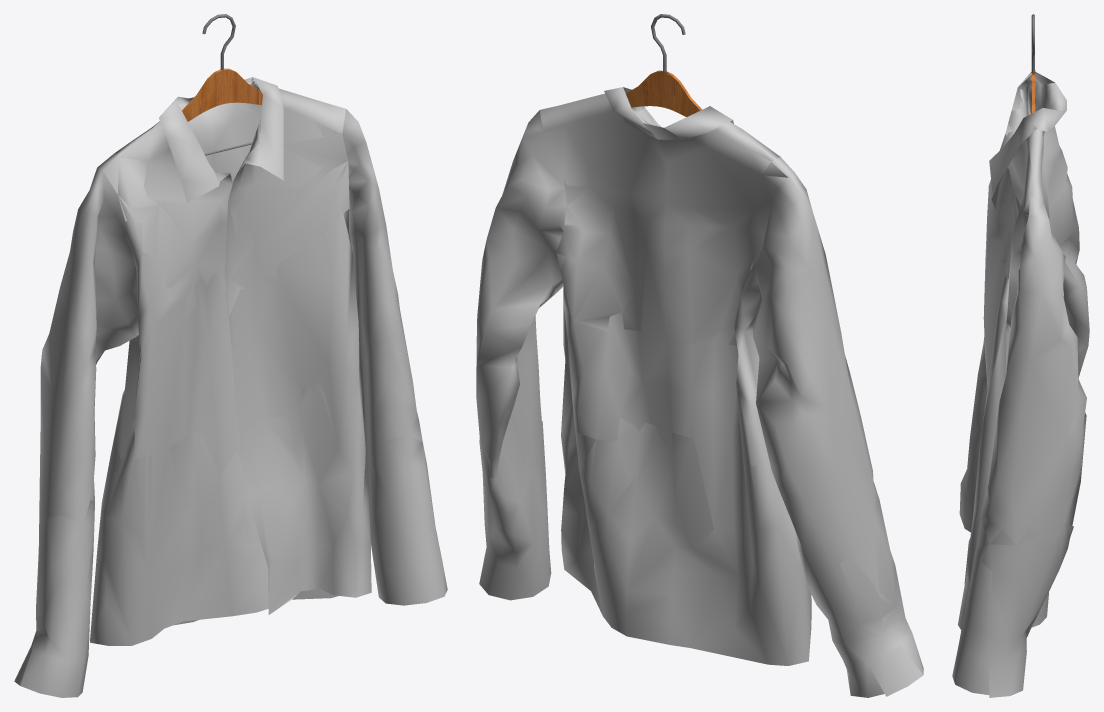
Rendered from dressshirt.FBX.
3 renders of one model, left to right at view 1: azimuth 30°, elevation 25°; view 2: azimuth 150°, elevation 25°; view 3: azimuth 270°, elevation 25°, orthographic. The views are drawn at different scales.
Visible parts, largest first — view 1: dressshirt_LOD0, _Hanger-1_LOD0; view 2: dressshirt_LOD0, _Hanger-1_LOD0; view 3: dressshirt_LOD0, _Hanger-1_LOD0.
Boxes of the visible parts, bbox=[...] form: dressshirt_LOD0: bbox=[14, 77, 447, 697]; _Hanger-1_LOD0: bbox=[182, 14, 262, 155]; dressshirt_LOD0: bbox=[476, 87, 923, 697]; _Hanger-1_LOD0: bbox=[625, 14, 701, 117]; dressshirt_LOD0: bbox=[952, 72, 1089, 697]; _Hanger-1_LOD0: bbox=[1031, 14, 1035, 113].
Size of what is drawn, in the model's own units: 60.03 by 17.35 by 83.99.
